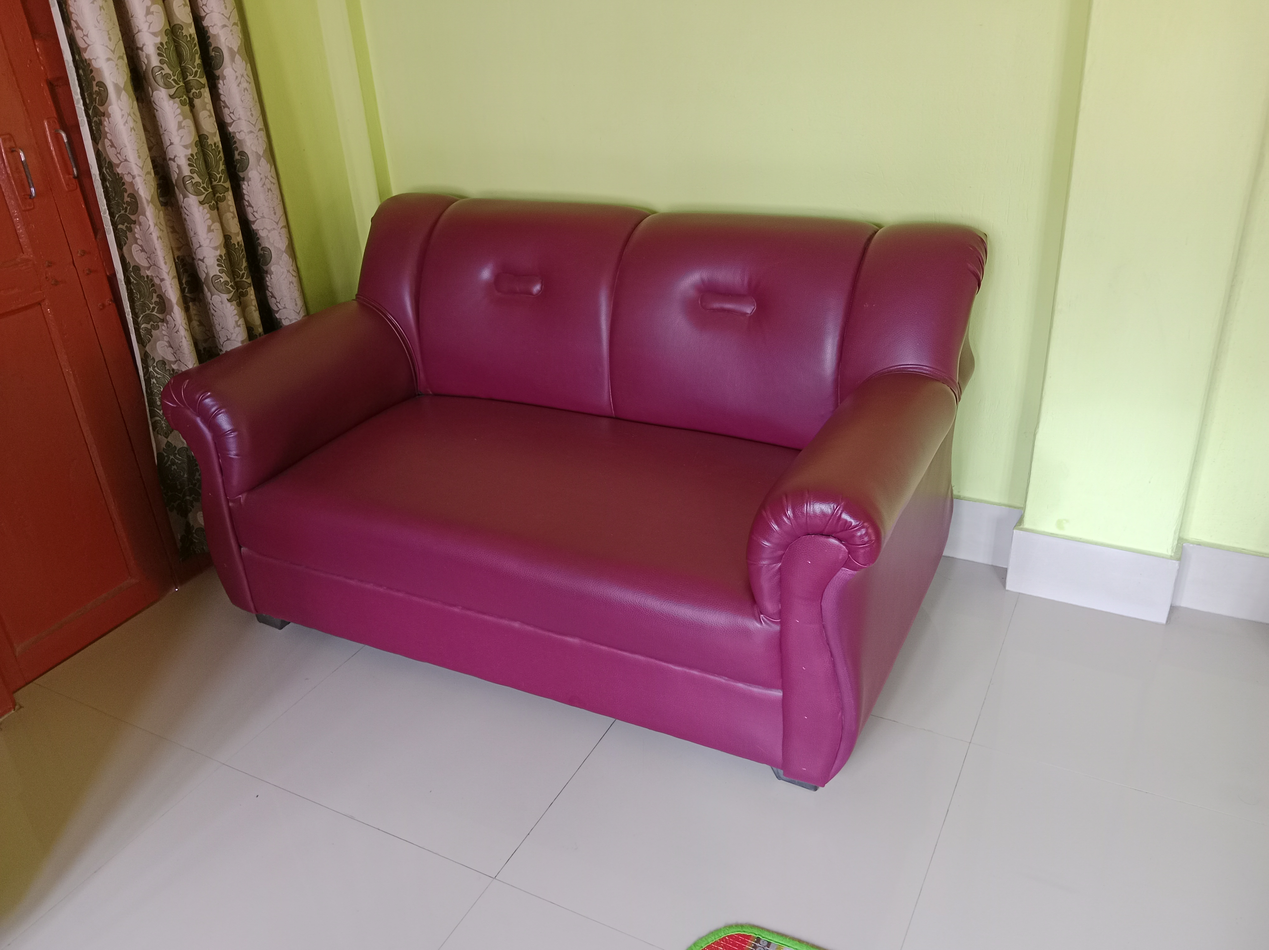sofa: (165, 191, 987, 792)
